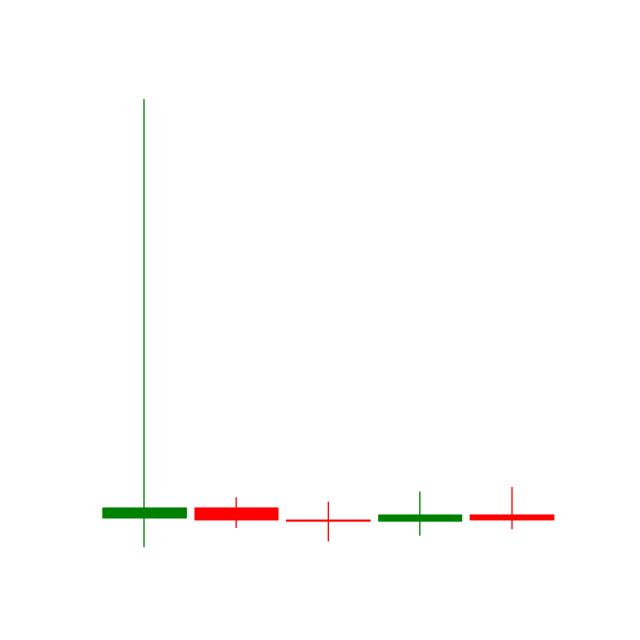Gravenstone Doji: (98, 90, 188, 550), (464, 485, 558, 529)
Standard Doji: (378, 492, 462, 539), (282, 500, 369, 540)
spinning top: (192, 498, 279, 528)
